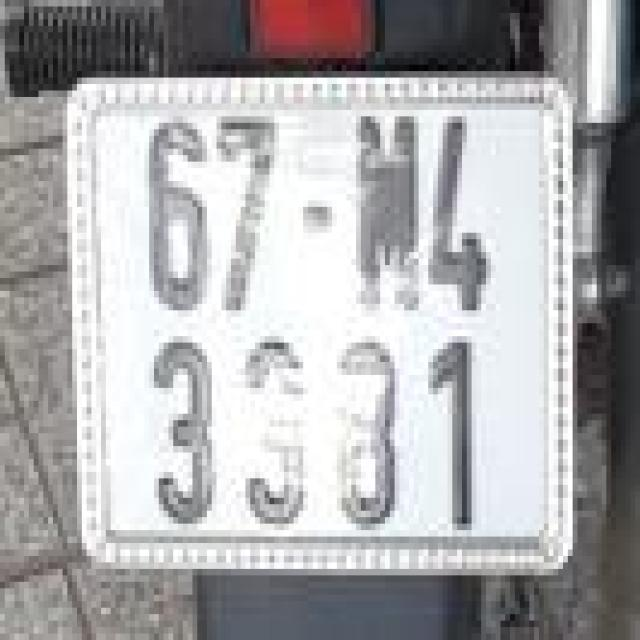1: (426, 314, 483, 546)
3: (228, 317, 300, 549), (149, 320, 217, 553)
4: (428, 100, 506, 327)
6: (128, 100, 210, 314)
7: (214, 97, 296, 323)
8: (328, 320, 400, 553)
M: (342, 104, 424, 324)
